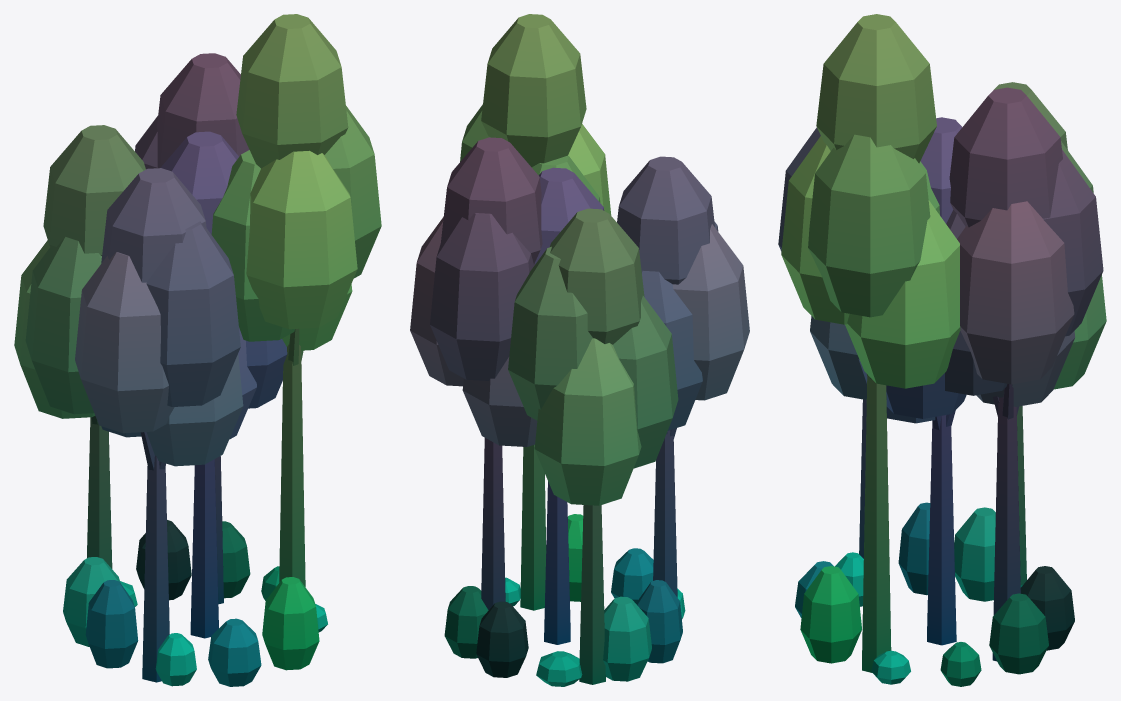
File: broadleaf_02.glb
The picture shows the model from 3 angles, left to right: view 1: azimuth 30°, elevation 25°; view 2: azimuth 150°, elevation 25°; view 3: azimuth 270°, elevation 25°; orthographic projection. The views are drawn at different scales.
Parts seen in each view (by area): view 1: broadleaf_02.002; view 2: broadleaf_02.002; view 3: broadleaf_02.002.
Part boxes in pixels (x1,y1,x2,y2): broadleaf_02.002: [14, 14, 381, 686]; broadleaf_02.002: [410, 14, 749, 686]; broadleaf_02.002: [778, 14, 1106, 686].
Size of the model in its own units: 0.94 by 1.87 by 0.8623.
